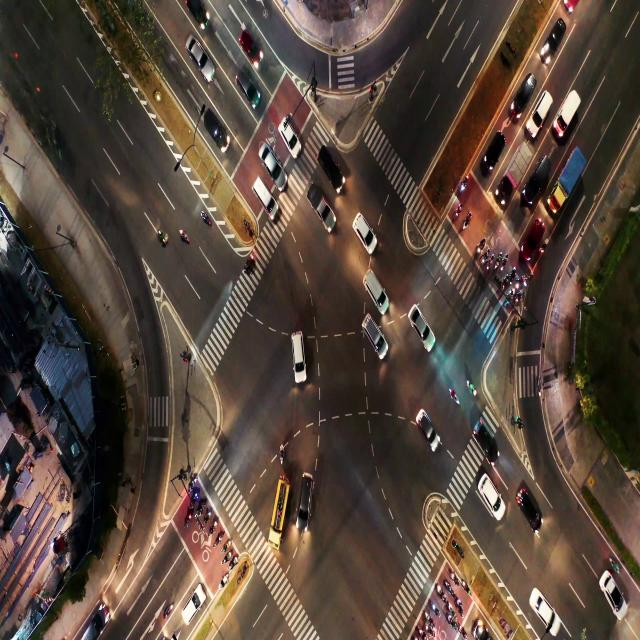bus: (274, 489, 284, 523)
car: (483, 477, 501, 512), (362, 317, 379, 344), (602, 580, 620, 605), (290, 333, 306, 356), (524, 493, 538, 519), (236, 77, 255, 95), (359, 217, 371, 244), (532, 589, 546, 612), (323, 155, 337, 176), (267, 146, 280, 168), (194, 4, 210, 20), (282, 121, 295, 138), (536, 167, 547, 186), (369, 272, 378, 295), (245, 34, 255, 54), (188, 44, 200, 60), (257, 190, 270, 204), (478, 426, 487, 446), (550, 26, 560, 44), (422, 420, 436, 432), (538, 100, 546, 120), (300, 488, 308, 506), (209, 112, 219, 126), (520, 88, 528, 105), (531, 231, 540, 245), (418, 309, 423, 332), (488, 147, 495, 162), (189, 600, 195, 612), (90, 628, 96, 635)
motorcycle: (244, 257, 254, 280), (462, 214, 472, 236), (203, 216, 217, 229), (468, 381, 479, 397), (180, 225, 189, 243), (450, 389, 458, 403), (610, 558, 618, 568), (158, 227, 164, 240), (464, 580, 470, 593), (416, 628, 424, 636), (426, 627, 433, 636), (280, 448, 284, 462), (222, 575, 228, 584), (461, 180, 466, 190), (502, 279, 507, 289), (448, 612, 452, 624), (198, 504, 202, 514), (456, 207, 460, 217), (540, 246, 544, 256), (431, 602, 436, 610), (458, 600, 462, 610), (166, 608, 172, 614), (494, 260, 498, 269), (510, 288, 514, 297), (190, 482, 194, 490), (193, 495, 197, 503), (205, 514, 209, 522), (216, 534, 220, 542), (478, 245, 482, 253), (482, 255, 486, 263), (516, 295, 520, 303), (453, 572, 456, 582), (224, 543, 228, 550), (232, 559, 236, 566), (187, 517, 190, 526), (524, 281, 527, 290), (443, 580, 448, 585), (225, 553, 228, 561), (502, 260, 505, 268), (510, 274, 513, 282), (516, 282, 519, 290), (437, 586, 441, 592), (448, 602, 452, 608), (211, 525, 214, 532), (459, 626, 464, 630), (487, 262, 490, 268), (426, 612, 428, 618)
truck: (316, 193, 328, 220), (563, 170, 572, 188), (511, 161, 518, 181), (564, 102, 572, 115)
